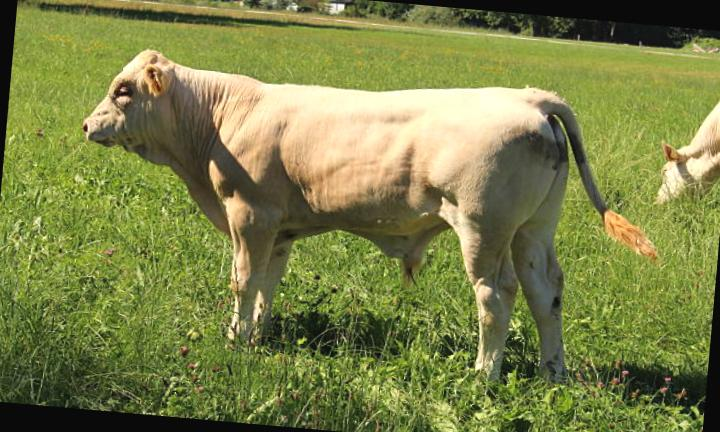Charolais: (85, 50, 656, 375)
